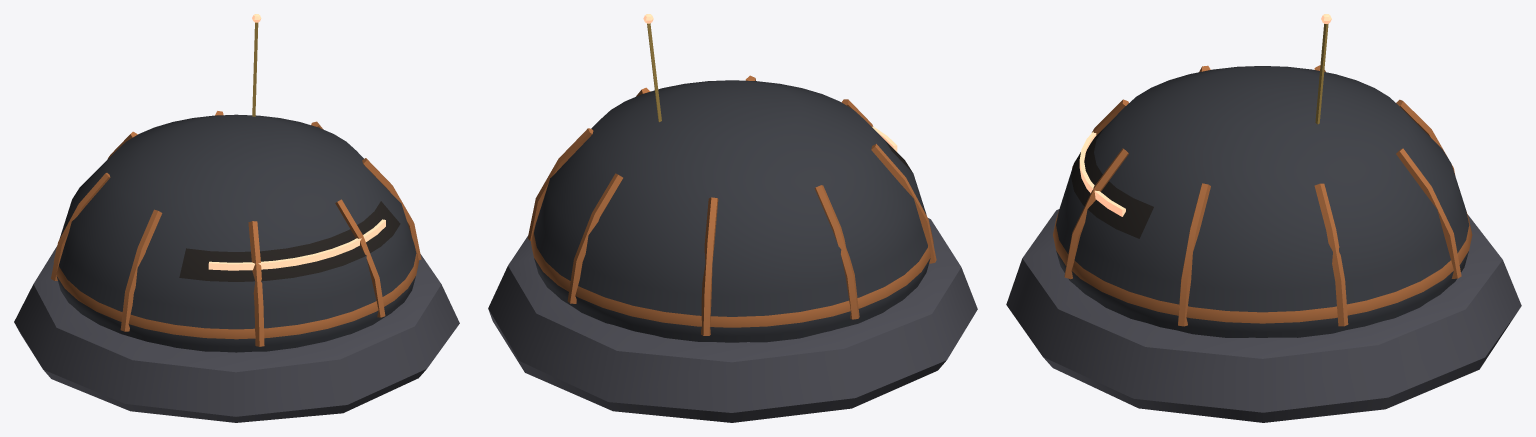
The model's file is deco_turret_dome.fbx.
The picture shows the model from 3 angles, left to right: view 1: azimuth 30°, elevation 25°; view 2: azimuth 150°, elevation 25°; view 3: azimuth 270°, elevation 25°; orthographic projection. The views are drawn at different scales.
Parts seen in each view (by area): view 1: TurretDome_Dome, TurretDome_Base, TurretDome_SlitLight, TurretDome_Antenna; view 2: TurretDome_Dome, TurretDome_Base, TurretDome_Antenna; view 3: TurretDome_Dome, TurretDome_Base, TurretDome_SlitLight, TurretDome_Antenna.
Part boxes in pixels (<box>): TurretDome_Dome: <box>51,111,421,352</box>; TurretDome_Base: <box>14,246,459,422</box>; TurretDome_SlitLight: <box>208,219,385,270</box>; TurretDome_Antenna: <box>252,14,261,116</box>; TurretDome_Dome: <box>528,75,936,342</box>; TurretDome_Base: <box>488,218,977,422</box>; TurretDome_Antenna: <box>643,14,661,122</box>; TurretDome_Dome: <box>1053,65,1472,337</box>; TurretDome_Base: <box>1006,209,1521,422</box>; TurretDome_SlitLight: <box>1079,131,1125,216</box>; TurretDome_Antenna: <box>1315,14,1331,124</box>.
Bounding box in the file's own units: 281 × 201 × 283.
